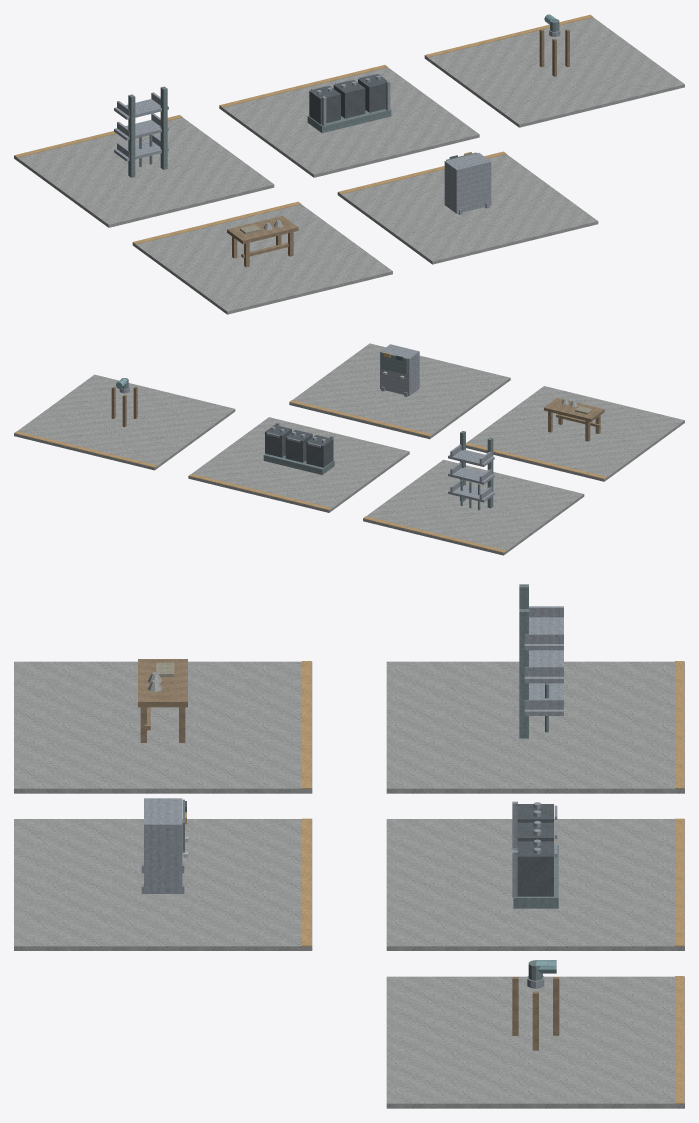
Rendered from level_blockout_kit_wld_08_p04.glb.
The picture shows the model from 3 angles, top to bottom: view 1: azimuth 30°, elevation 25°; view 2: azimuth 150°, elevation 25°; view 3: azimuth 270°, elevation 25°; orthographic projection. The views are drawn at different scales.
Visible parts, largest first — view 1: level_blockout_kit_wld_08_p04; view 2: level_blockout_kit_wld_08_p04; view 3: level_blockout_kit_wld_08_p04.
Part boxes in pixels (x1,y1,x2,y2): level_blockout_kit_wld_08_p04: (14, 14, 684, 314); level_blockout_kit_wld_08_p04: (14, 343, 684, 555); level_blockout_kit_wld_08_p04: (14, 584, 684, 1108).
Size of the model in its own units: 19.65 by 2.73 by 12.6.
Materials: 9 (9 with a texture image).
